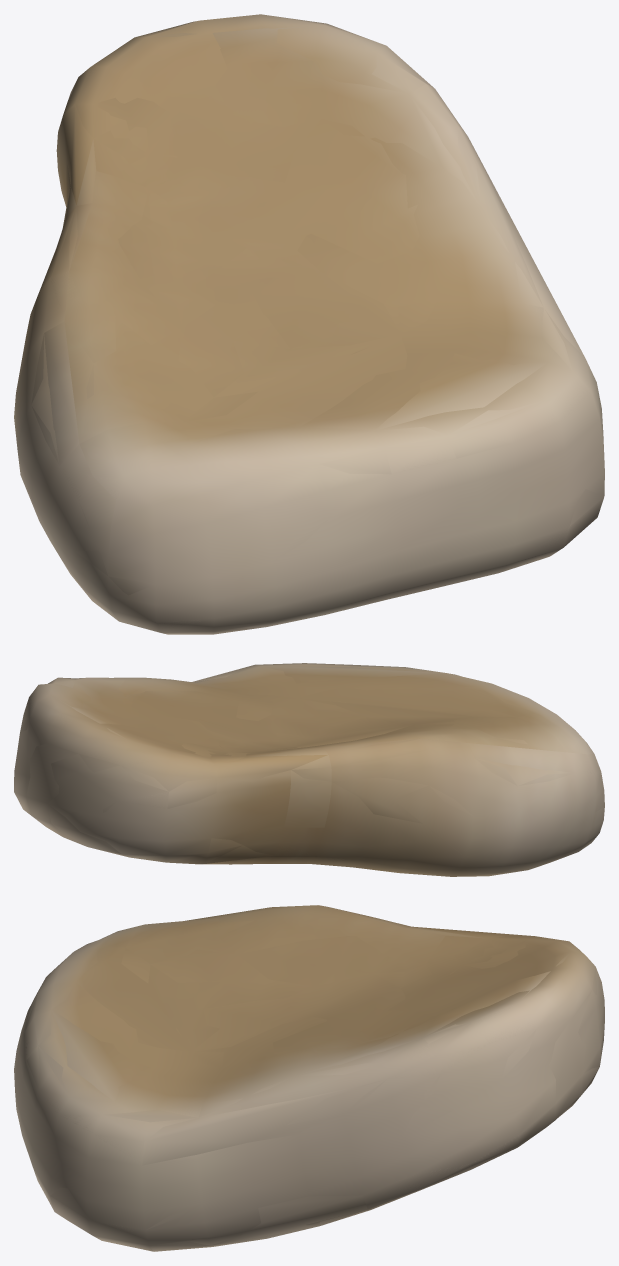
The model's file is R tarsi centrale.fbx.
3 renders of one model, top to bottom at view 1: azimuth 30°, elevation 25°; view 2: azimuth 150°, elevation 25°; view 3: azimuth 270°, elevation 25°, orthographic. The views are drawn at different scales.
Visible parts, largest first — view 1: R tarsi centrale, R tarsi centrale low; view 2: R tarsi centrale, R tarsi centrale low; view 3: R tarsi centrale, R tarsi centrale low.
Boxes of the visible parts, x1=… form: R tarsi centrale: x1=14, y1=14, x2=604, y2=634; R tarsi centrale low: x1=16, y1=23, x2=603, y2=634; R tarsi centrale: x1=14, y1=663, x2=604, y2=876; R tarsi centrale low: x1=14, y1=663, x2=604, y2=876; R tarsi centrale: x1=14, y1=905, x2=604, y2=1251; R tarsi centrale low: x1=24, y1=906, x2=604, y2=1251.
Bounding box in the file's own units: 6 × 3.09 × 6.76.
